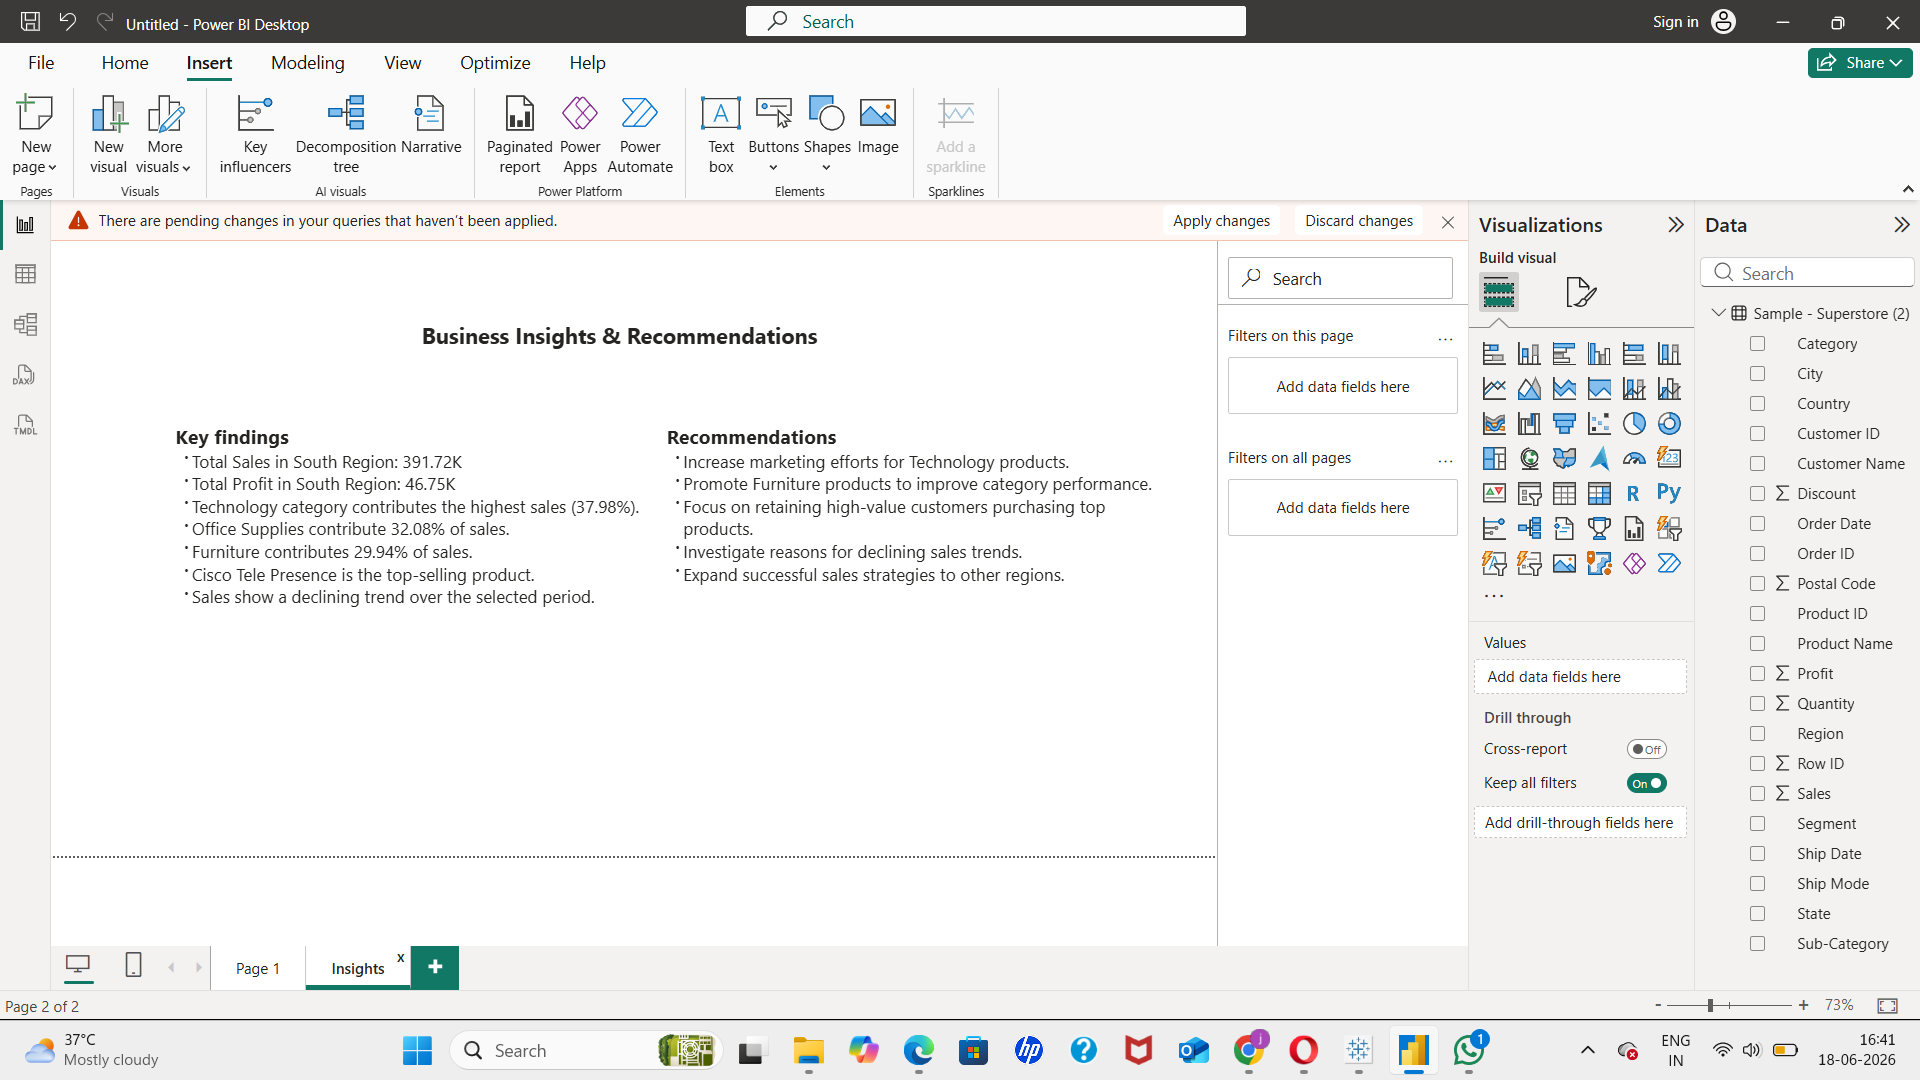

The dashboard page shown, as its layout file describes it:
{"tool":"powerbi","page":{"name":"Insights","canvas":[1280,720],"ordinal":1},"visuals":[{"type":"textbox","box":[10,0,280,280],"z":0},{"type":"textbox","box":[402.1,127.6,570.8,76.8],"z":1000},{"type":"textbox","box":[131.7,240.1,539.3,355.4],"z":2000},{"type":"textbox","box":[671,240.1,562.6,355.4],"z":3000}]}

Visuals, with their boxes on the page's 1280x720 design canvas (x1, y1, x2, y2). These are canvas units, not pixel positions in the 1920x1080 screenshot, which may show the page scaled, cropped or inside an application window:
textbox: (x1=10, y1=0, x2=290, y2=280)
textbox: (x1=402, y1=128, x2=973, y2=204)
textbox: (x1=132, y1=240, x2=671, y2=596)
textbox: (x1=671, y1=240, x2=1234, y2=596)
